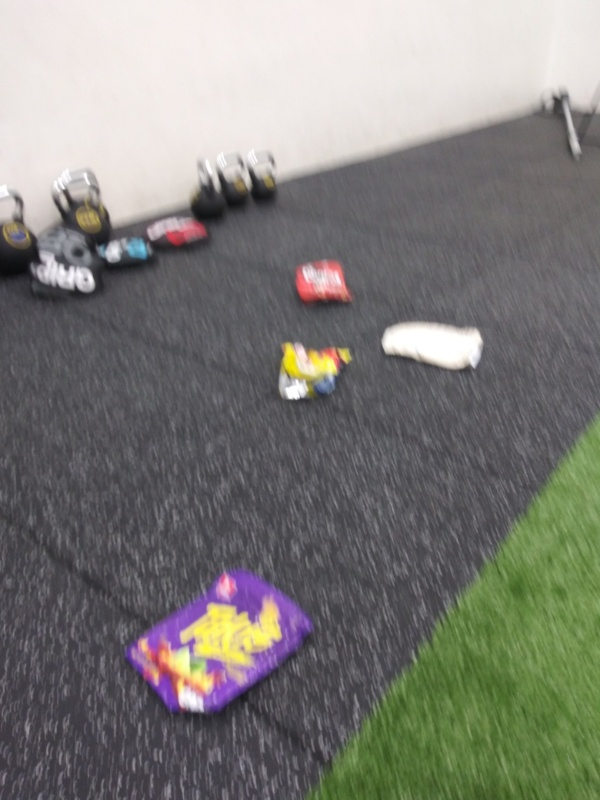bag: (119, 561, 323, 725), (272, 335, 360, 411), (372, 317, 486, 374), (289, 258, 360, 307)
